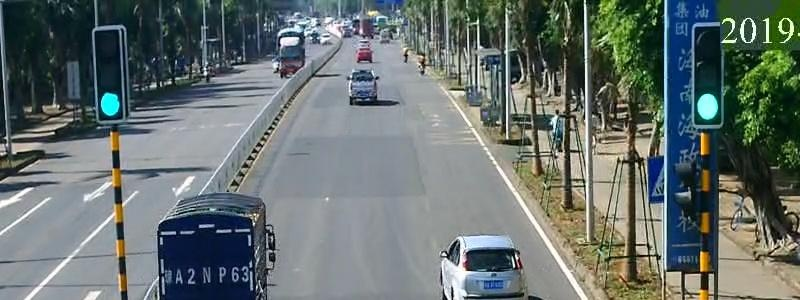green: (87, 86, 142, 126), (687, 86, 734, 132)
